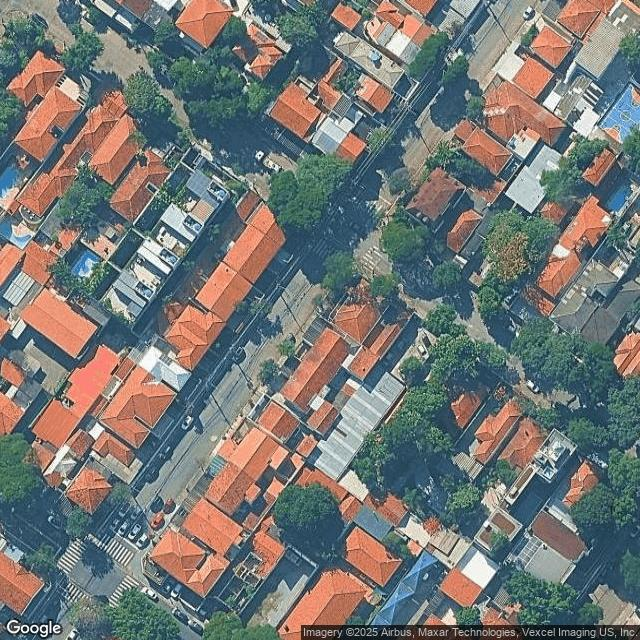pool: (11, 167, 32, 189), (411, 488, 428, 507), (9, 225, 21, 251), (610, 198, 615, 225), (86, 267, 92, 287)
